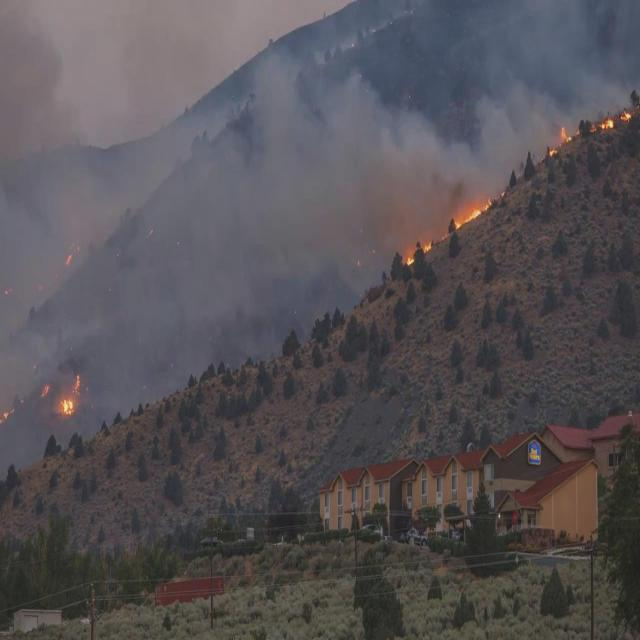Fire: (454, 198, 494, 228), (60, 378, 82, 417), (560, 125, 572, 144), (598, 116, 614, 130), (1, 408, 11, 423), (404, 255, 414, 267), (422, 241, 432, 253), (42, 382, 48, 401), (67, 252, 75, 266), (620, 110, 631, 119), (550, 148, 556, 158)
